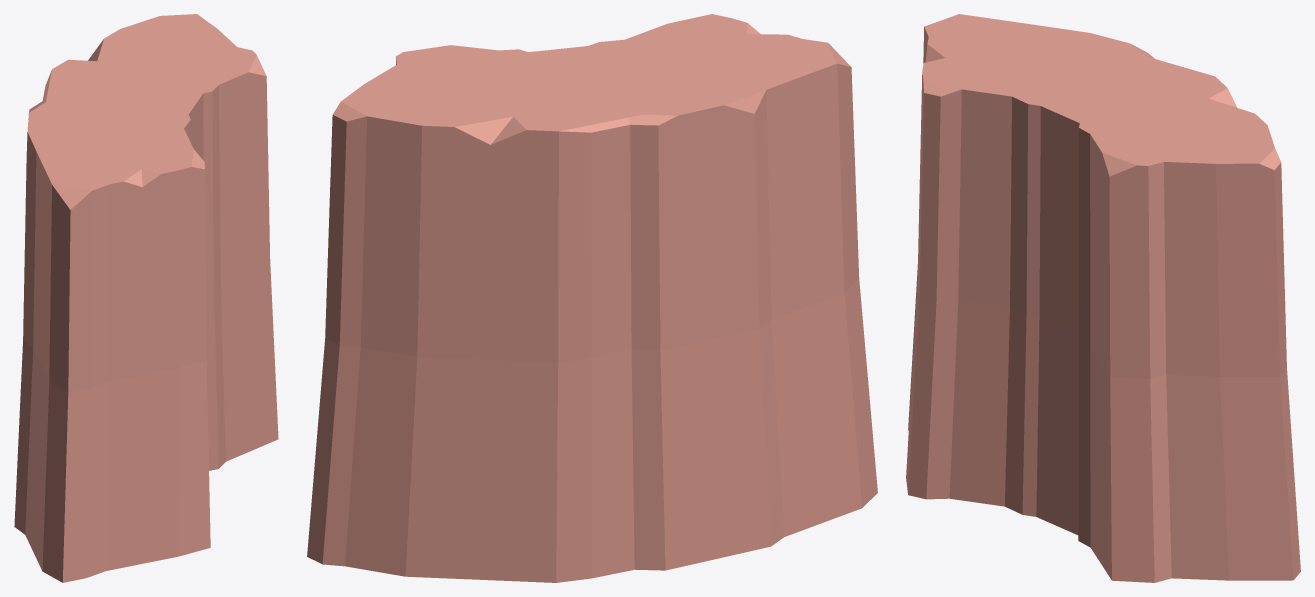
Rendered from SuperGrid_RingQuarter_019_Vlad.fbx.
The picture shows the model from 3 angles, left to right: view 1: azimuth 30°, elevation 25°; view 2: azimuth 150°, elevation 25°; view 3: azimuth 270°, elevation 25°; orthographic projection. The views are drawn at different scales.
Visible parts, largest first — view 1: SuperGrid_RingQuarter.019; view 2: SuperGrid_RingQuarter.019; view 3: SuperGrid_RingQuarter.019.
Boxes of the visible parts, x1,y1,x2,y2 form: SuperGrid_RingQuarter.019: [14, 14, 278, 582]; SuperGrid_RingQuarter.019: [307, 14, 877, 582]; SuperGrid_RingQuarter.019: [906, 14, 1300, 582].
Size of the model in its own units: 437 by 500 by 437.
